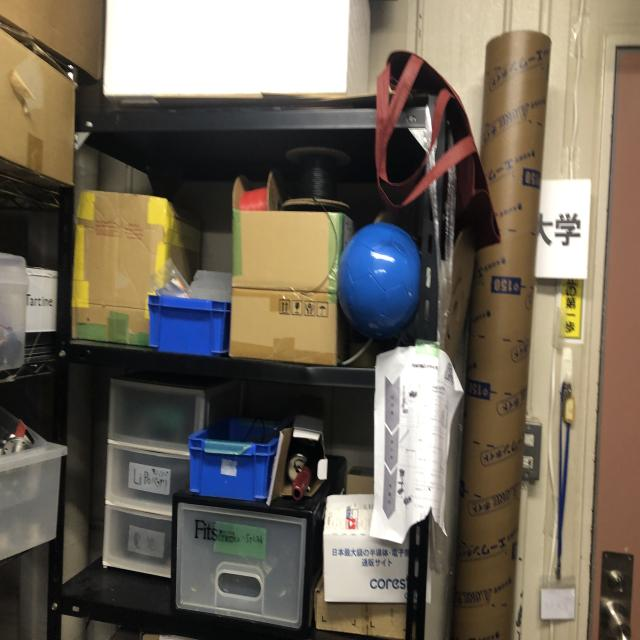blue_ball: (340, 216, 423, 334)
